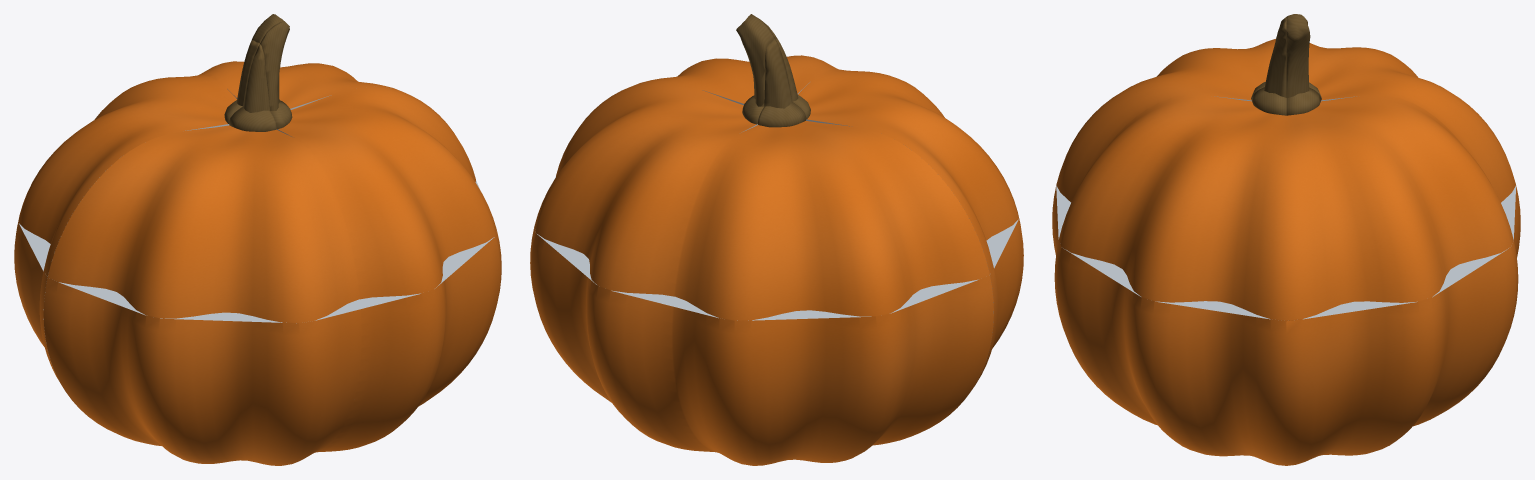
File: pumpkin.glb
3 renders of one model, left to right at view 1: azimuth 30°, elevation 25°; view 2: azimuth 150°, elevation 25°; view 3: azimuth 270°, elevation 25°, orthographic. The views are drawn at different scales.
Visible parts, largest first — view 1: Part_002, Part_001, Part_006, Part_005, Part_004, Part_008, OriginalSkeleton, Part_003; view 2: Part_004, Part_003, Part_008, Part_007, Part_002, Part_006, OriginalSkeleton, Part_001; view 3: Part_008, Part_006, Part_005, Part_007, Part_002, Part_004, OriginalSkeleton.
Boxes of the visible parts, x1=… form: Part_002: x1=47, y1=44, x2=360, y2=323; Part_001: x1=43, y1=278, x2=361, y2=465; Part_006: x1=260, y1=21, x2=496, y2=299; Part_005: x1=317, y1=230, x2=501, y2=452; Part_004: x1=18, y1=40, x2=259, y2=277; Part_008: x1=199, y1=14, x2=405, y2=108; OriginalSkeleton: x1=19, y1=89, x2=494, y2=323; Part_003: x1=14, y1=220, x2=59, y2=381; Part_004: x1=673, y1=38, x2=989, y2=320; Part_003: x1=671, y1=275, x2=993, y2=465; Part_008: x1=534, y1=14, x2=774, y2=296; Part_007: x1=530, y1=227, x2=717, y2=452; Part_002: x1=775, y1=37, x2=1018, y2=274; Part_006: x1=633, y1=23, x2=837, y2=103; OriginalSkeleton: x1=537, y1=82, x2=1018, y2=380; Part_001: x1=973, y1=215, x2=1023, y2=387; Part_008: x1=1286, y1=14, x2=1513, y2=320; Part_006: x1=1058, y1=17, x2=1286, y2=321; Part_005: x1=1054, y1=241, x2=1286, y2=465; Part_007: x1=1286, y1=240, x2=1518, y2=465; Part_002: x1=1056, y1=39, x2=1275, y2=202; Part_004: x1=1308, y1=43, x2=1515, y2=202; OriginalSkeleton: x1=1056, y1=96, x2=1516, y2=319.
Bounding box in the file's own units: 0.2632 × 0.2358 × 0.2382.
Materials: 3 (2 with a texture image).
